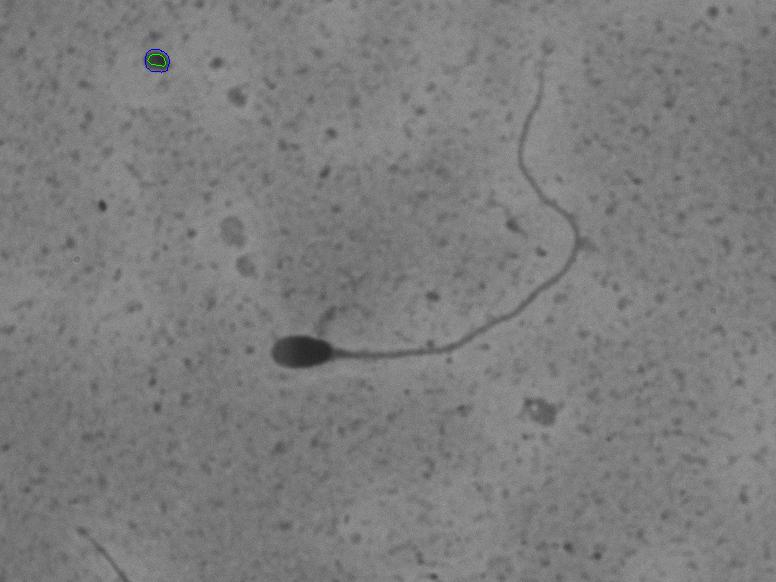Normal: (241, 64, 637, 397)
